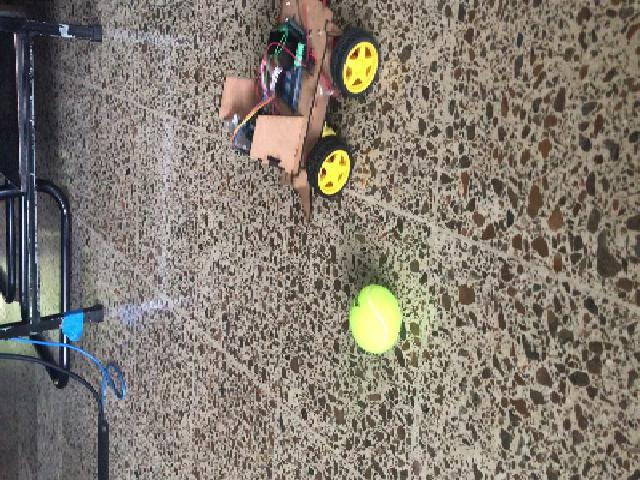Ball: (349, 283, 402, 356)
Robot: (213, 13, 379, 220)
